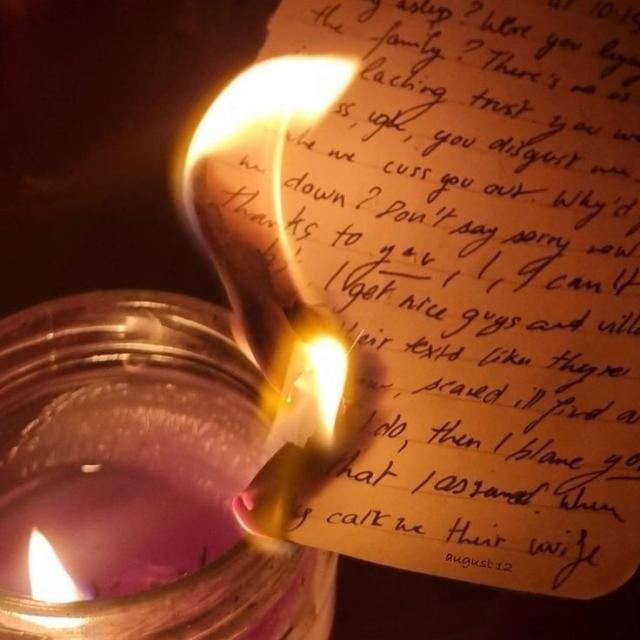fire: (187, 52, 365, 199), (299, 329, 351, 440), (28, 526, 78, 604)
